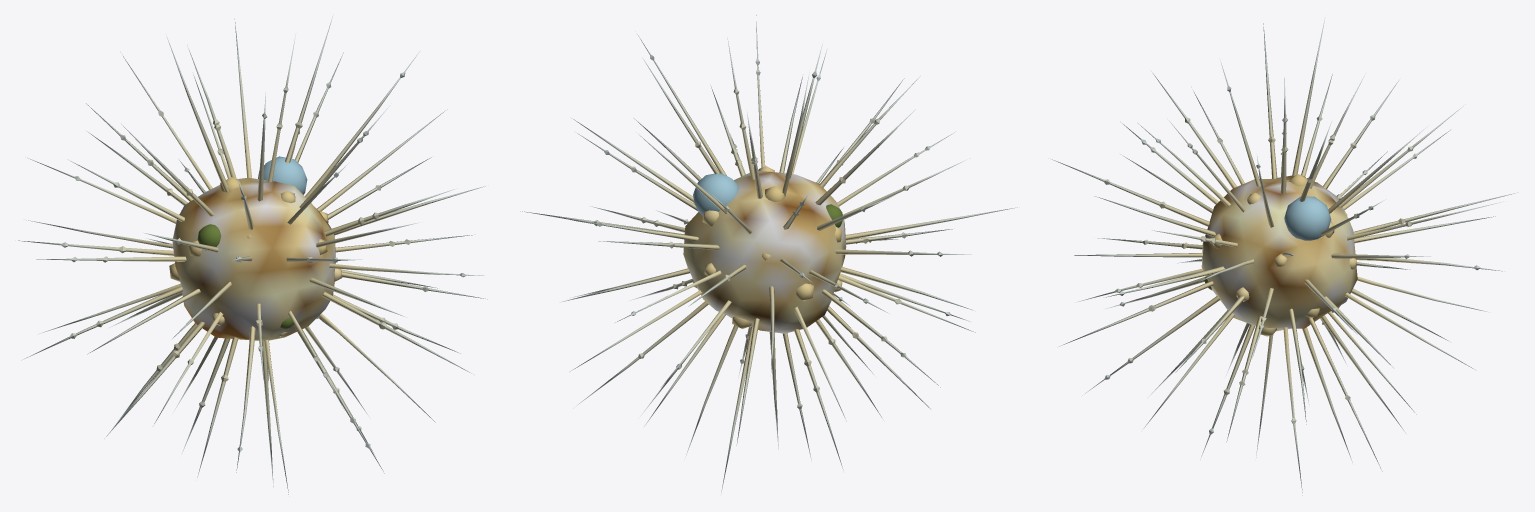
File: ActinophrysSol.fbx
The picture shows the model from 3 angles, left to right: view 1: azimuth 30°, elevation 25°; view 2: azimuth 150°, elevation 25°; view 3: azimuth 270°, elevation 25°; orthographic projection. The views are drawn at different scales.
Parts seen in each view (by area): view 1: ActinophrysSol; view 2: ActinophrysSol; view 3: ActinophrysSol.
Boxes of the visible parts, box(x1,y1,x2,y2) form: ActinophrysSol: box(18, 16, 487, 494); ActinophrysSol: box(520, 15, 1017, 492); ActinophrysSol: box(1052, 17, 1517, 495).
Bounding box in the file's own units: 3.16 × 3.07 × 3.16.
